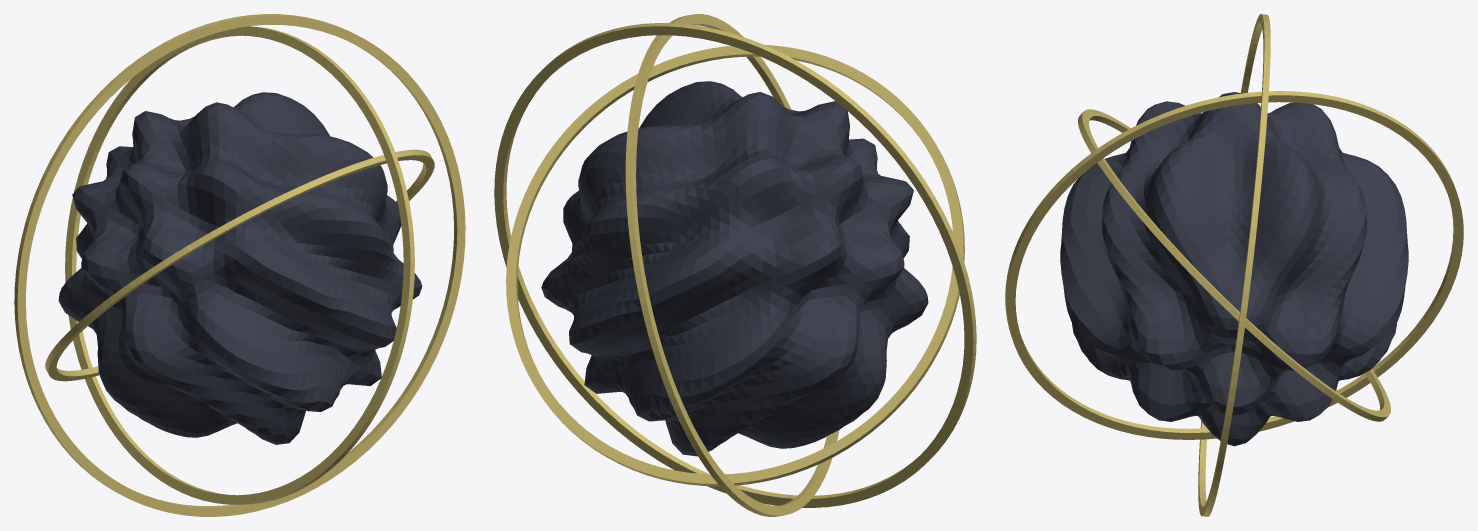
File: gpu-artifact.glb
3 views of the same model, side by side, from view 1: azimuth 30°, elevation 25°; view 2: azimuth 150°, elevation 25°; view 3: azimuth 270°, elevation 25° (orthographic). The views are drawn at different scales.
Visible parts, largest first — view 1: agent-gods-eye_obsidian_core, agent-gods-eye_orbital_ring_2, agent-gods-eye_orbital_ring_1, agent-gods-eye_orbital_ring_0; view 2: agent-gods-eye_obsidian_core, agent-gods-eye_orbital_ring_2, agent-gods-eye_orbital_ring_0, agent-gods-eye_orbital_ring_1; view 3: agent-gods-eye_obsidian_core, agent-gods-eye_orbital_ring_1, agent-gods-eye_orbital_ring_2, agent-gods-eye_orbital_ring_0.
Boxes of the visible parts, x1,y1,x2,y2 form: agent-gods-eye_obsidian_core: (58, 92, 422, 444); agent-gods-eye_orbital_ring_2: (14, 14, 465, 516); agent-gods-eye_orbital_ring_1: (65, 26, 414, 504); agent-gods-eye_orbital_ring_0: (45, 149, 434, 381); agent-gods-eye_obsidian_core: (541, 81, 928, 456); agent-gods-eye_orbital_ring_2: (494, 23, 976, 507); agent-gods-eye_orbital_ring_0: (506, 45, 964, 486); agent-gods-eye_orbital_ring_1: (625, 14, 839, 516); agent-gods-eye_obsidian_core: (1060, 92, 1408, 446); agent-gods-eye_orbital_ring_1: (1005, 91, 1463, 439); agent-gods-eye_orbital_ring_2: (1198, 14, 1270, 516); agent-gods-eye_orbital_ring_0: (1078, 109, 1390, 421).
Size of the model in its own units: 3.24 by 3.22 by 2.94.
